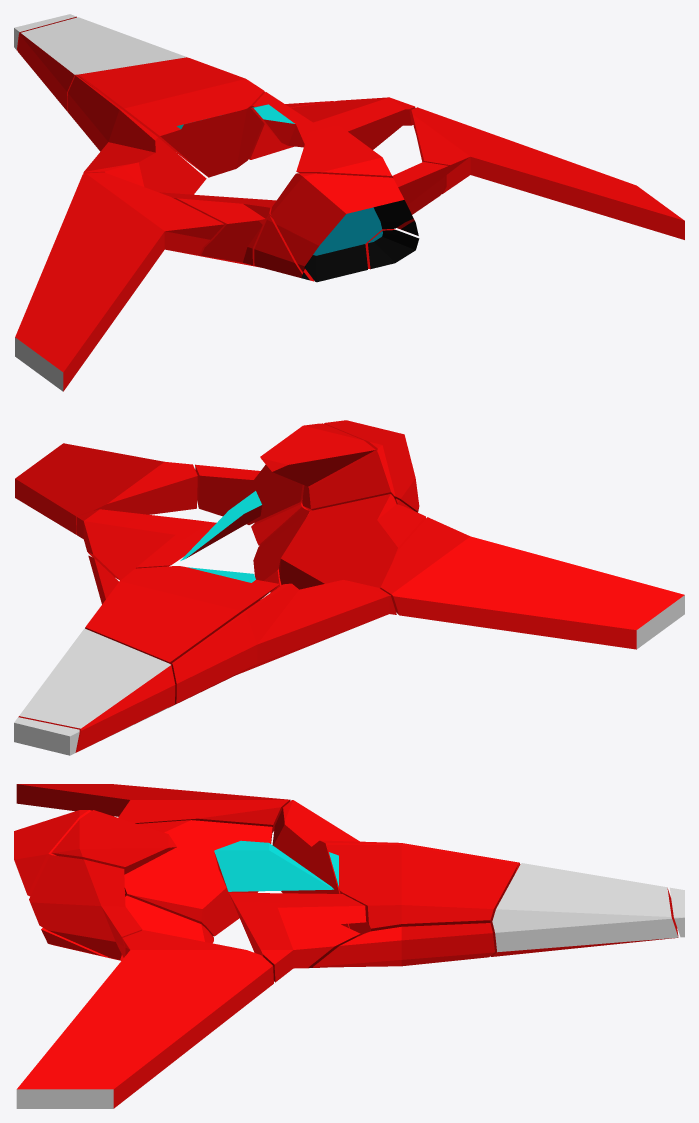
Rendered from Player_frac_Editable.fbx.
The picture shows the model from 3 angles, top to bottom: view 1: azimuth 30°, elevation 25°; view 2: azimuth 150°, elevation 25°; view 3: azimuth 270°, elevation 25°; orthographic projection.
Visible parts, largest first — view 1: Player_Fracture_cell.013, Player_Fracture_cell.010, Player_Fracture_cell.004, Player_Fracture_cell.017, Player_Fracture_cell.002, Player_Fracture_cell.007, Player_Fracture_cell.006, Player_Fracture_cell.005, Player_Fracture_cell.014, Player_Fracture_cell.015, Player_Fracture_cell.001, Player_Fracture_cell.009 (+2 smaller); view 2: Player_Fracture_cell.013, Player_Fracture_cell.002, Player_Fracture_cell.010, Player_Fracture_cell.007, Player_Fracture_cell.004, Player_Fracture_cell.005, Player_Fracture_cell.006, Player_Fracture_cell.017, Player_Fracture_cell.014, Player_Fracture_cell.015, Player_Fracture_cell.012, Player_Fracture_cell.016 (+3 smaller); view 3: Player_Fracture_cell.004, Player_Fracture_cell.007, Player_Fracture_cell.010, Player_Fracture_cell.005, Player_Fracture_cell.013, Player_Fracture_cell.006, Player_Fracture_cell.015, Player_Fracture_cell.003, Player_Fracture_cell.014, Player_Fracture_cell.002, Player_Fracture_cell.018, Player_Fracture_cell.017 (+3 smaller).
Boxes of the visible parts, x1=… form: Player_Fracture_cell.013: x1=15, y1=172, x2=224, y2=391; Player_Fracture_cell.010: x1=80, y1=57, x2=264, y2=177; Player_Fracture_cell.004: x1=411, y1=107, x2=684, y2=239; Player_Fracture_cell.017: x1=270, y1=173, x2=413, y2=282; Player_Fracture_cell.002: x1=67, y1=75, x2=206, y2=194; Player_Fracture_cell.007: x1=17, y1=17, x2=187, y2=111; Player_Fracture_cell.006: x1=253, y1=92, x2=415, y2=149; Player_Fracture_cell.005: x1=159, y1=192, x2=276, y2=267; Player_Fracture_cell.014: x1=296, y1=125, x2=391, y2=177; Player_Fracture_cell.015: x1=388, y1=162, x2=448, y2=235; Player_Fracture_cell.001: x1=254, y1=215, x2=314, y2=281; Player_Fracture_cell.009: x1=365, y1=229, x2=419, y2=269; Player_Fracture_cell.013: x1=380, y1=517, x2=684, y2=649; Player_Fracture_cell.002: x1=169, y1=580, x2=396, y2=707; Player_Fracture_cell.010: x1=85, y1=566, x2=279, y2=664; Player_Fracture_cell.007: x1=18, y1=628, x2=175, y2=752; Player_Fracture_cell.004: x1=15, y1=443, x2=197, y2=534; Player_Fracture_cell.005: x1=278, y1=494, x2=425, y2=589; Player_Fracture_cell.006: x1=76, y1=509, x2=216, y2=580; Player_Fracture_cell.017: x1=302, y1=420, x2=419, y2=512; Player_Fracture_cell.014: x1=260, y1=423, x2=375, y2=486; Player_Fracture_cell.015: x1=195, y1=464, x2=304, y2=524; Player_Fracture_cell.012: x1=253, y1=508, x2=310, y2=592; Player_Fracture_cell.016: x1=14, y1=717, x2=79, y2=755; Player_Fracture_cell.004: x1=16, y1=930, x2=273, y2=1108; Player_Fracture_cell.007: x1=490, y1=863, x2=678, y2=956; Player_Fracture_cell.010: x1=326, y1=844, x2=518, y2=937; Player_Fracture_cell.005: x1=124, y1=820, x2=272, y2=936; Player_Fracture_cell.013: x1=16, y1=784, x2=290, y2=832; Player_Fracture_cell.006: x1=229, y1=892, x2=366, y2=982; Player_Fracture_cell.015: x1=29, y1=855, x2=142, y2=959; Player_Fracture_cell.003: x1=313, y1=923, x2=494, y2=967; Player_Fracture_cell.014: x1=51, y1=810, x2=176, y2=874; Player_Fracture_cell.002: x1=272, y1=800, x2=520, y2=928; Player_Fracture_cell.018: x1=214, y1=840, x2=333, y2=891; Player_Fracture_cell.017: x1=14, y1=810, x2=125, y2=896.
Size of the model in its own units: 7.03 by 1.36 by 6.53.
